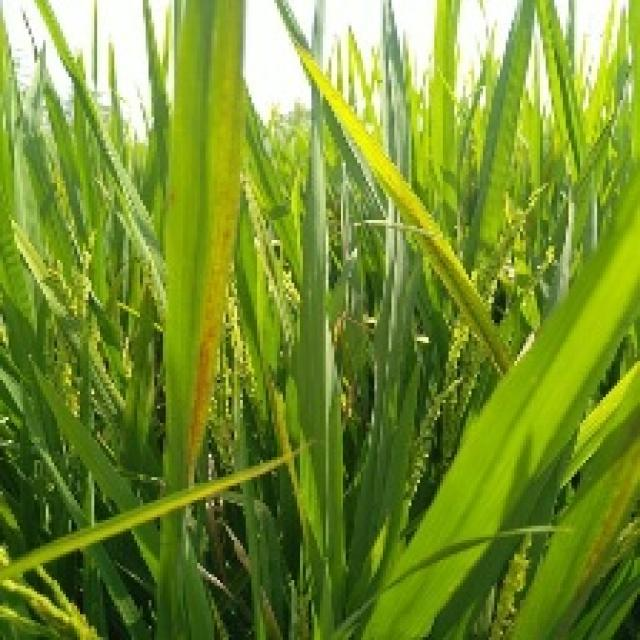Unhealthy: (189, 198, 234, 473)
